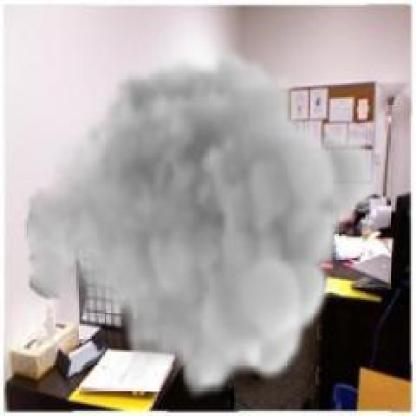Smoke: (23, 48, 383, 400)
